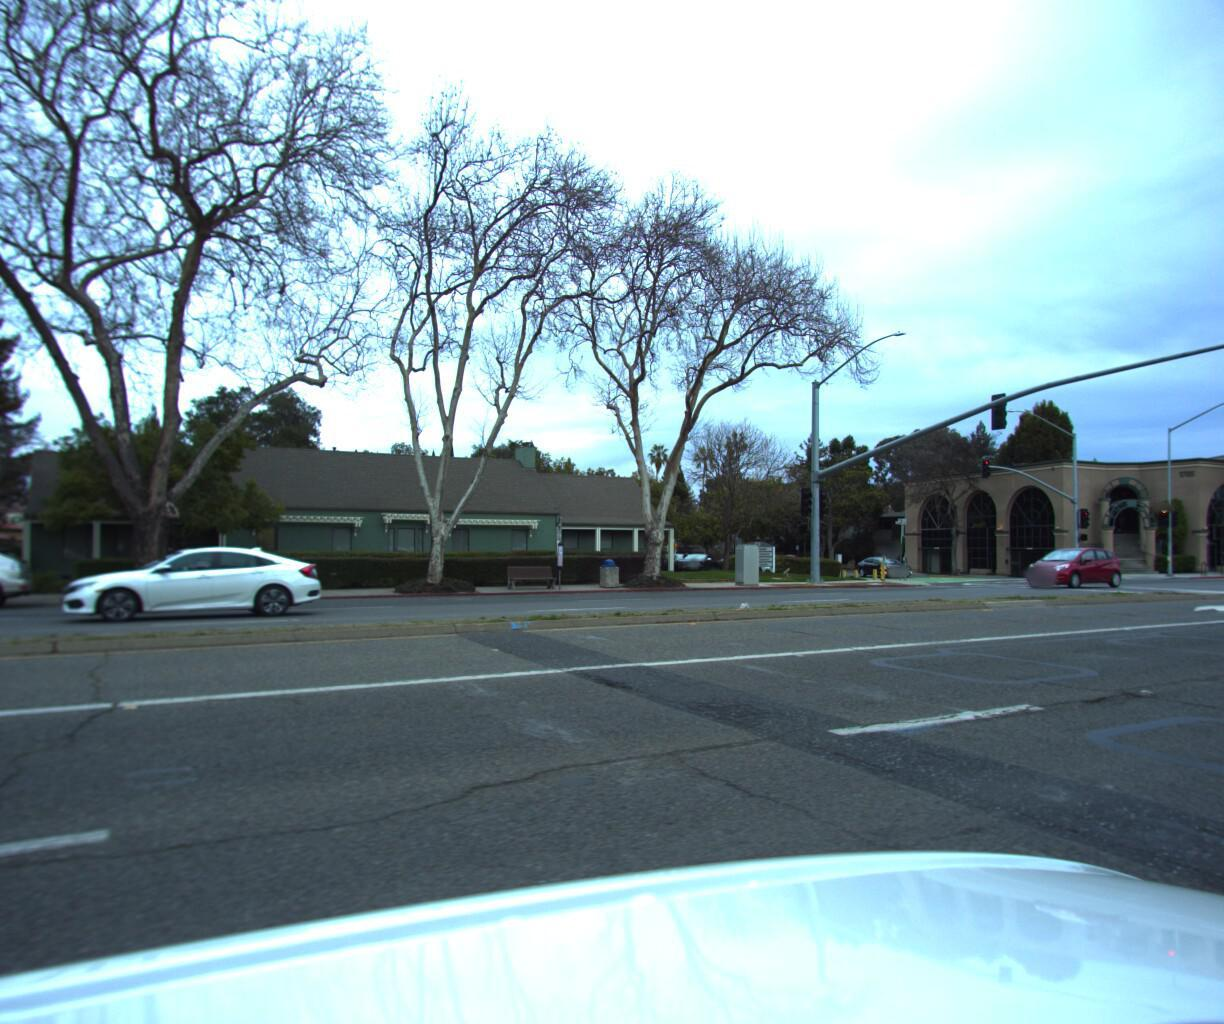car: (57, 539, 315, 626), (1009, 541, 1125, 584), (0, 548, 34, 622), (850, 550, 914, 576)
